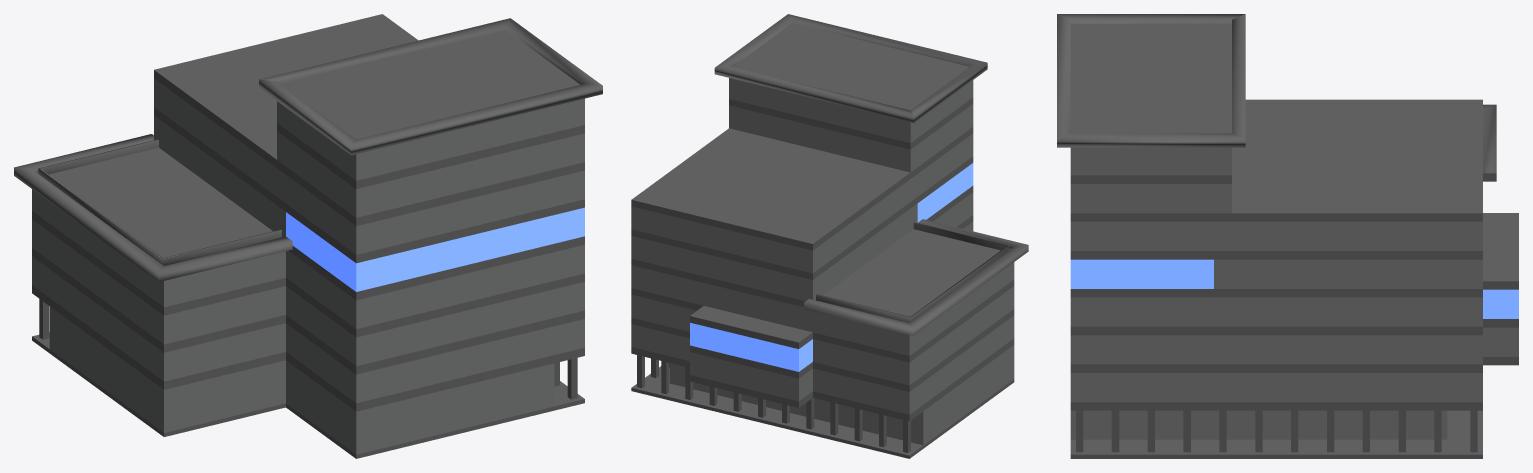
File: My_Dream_Office_v3.glb
The picture shows the model from 3 angles, left to right: view 1: azimuth 30°, elevation 25°; view 2: azimuth 150°, elevation 25°; view 3: azimuth 270°, elevation 25°; orthographic projection. The views are drawn at different scales.
Parts seen in each view (by area): view 1: Seperator_17, Seperator_5, Seperator_9, Windows, Windows_10, Overhang_1, Windows_25, Windows_17, Windows_23, Windows_16, Windows_19, Windows_21 (+21 smaller); view 2: Seperator_5, Seperator_17, Seperator_9, Windows_8, Windows_6, Overhang_1, Windows_25, Windows_28, Windows_12, Windows_11, Windows_10, Windows_4 (+27 smaller); view 3: Seperator_5, Seperator_17, Windows, Windows_1, Windows_2, Windows_4, Windows_6, Windows_8, Overhang_1, Base, Windows_25, Windows_28 (+22 smaller).
Boxes of the visible parts, bbox=[...] form: Seperator_17: bbox=[282, 30, 580, 139]; Seperator_5: bbox=[154, 14, 418, 174]; Seperator_9: bbox=[37, 147, 272, 257]; Windows: bbox=[286, 360, 554, 454]; Windows_10: bbox=[49, 306, 285, 432]; Overhang_1: bbox=[259, 18, 602, 155]; Windows_25: bbox=[277, 131, 584, 217]; Windows_17: bbox=[286, 282, 584, 366]; Windows_23: bbox=[286, 170, 584, 254]; Windows_16: bbox=[286, 319, 584, 403]; Windows_19: bbox=[286, 244, 584, 328]; Windows_21: bbox=[286, 207, 584, 291]; Seperator_5: bbox=[631, 128, 917, 250]; Seperator_17: bbox=[733, 23, 969, 110]; Seperator_9: bbox=[823, 229, 1010, 316]; Windows_8: bbox=[631, 174, 917, 273]; Windows_6: bbox=[631, 203, 917, 300]; Overhang_1: bbox=[714, 14, 987, 122]; Windows_25: bbox=[729, 104, 973, 172]; Windows_28: bbox=[729, 78, 973, 142]; Windows_12: bbox=[813, 286, 1014, 385]; Windows_11: bbox=[813, 315, 1014, 414]; Windows_10: bbox=[826, 345, 1014, 445]; Windows_4: bbox=[631, 265, 812, 332]; Seperator_5: bbox=[1214, 99, 1482, 221]; Seperator_17: bbox=[1070, 24, 1231, 133]; Windows: bbox=[1070, 410, 1447, 439]; Windows_1: bbox=[1214, 373, 1482, 402]; Windows_2: bbox=[1214, 335, 1482, 364]; Windows_4: bbox=[1214, 297, 1482, 326]; Windows_6: bbox=[1214, 259, 1482, 288]; Windows_8: bbox=[1214, 221, 1482, 250]; Overhang_1: bbox=[1057, 14, 1245, 147]; Base: bbox=[1214, 410, 1482, 458]; Windows_25: bbox=[1070, 184, 1231, 213]; Windows_28: bbox=[1070, 147, 1231, 175].
Bounding box in the file's own units: 40.82 × 33.38 × 42.9.
